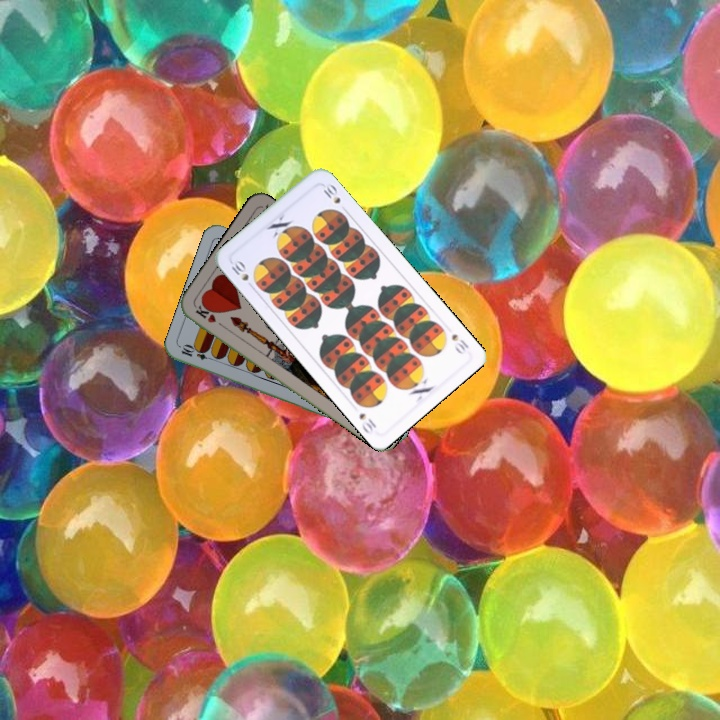E10: (177, 342, 217, 363)
HK: (191, 301, 228, 331)
S10: (227, 255, 257, 292), (447, 330, 471, 357)
